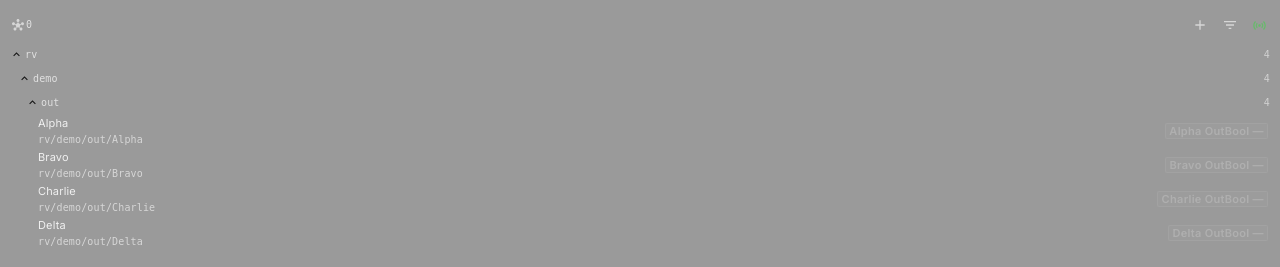
Test case: CONNECT signal list — multi-selection wiring › reduces the selection when the menu opens outside it, so the count cannot mislead
Click the element showing "Alpha rv/demo/out/Alpha Alpha OutBool —" at (53, 123), box [8,114,1272,148]
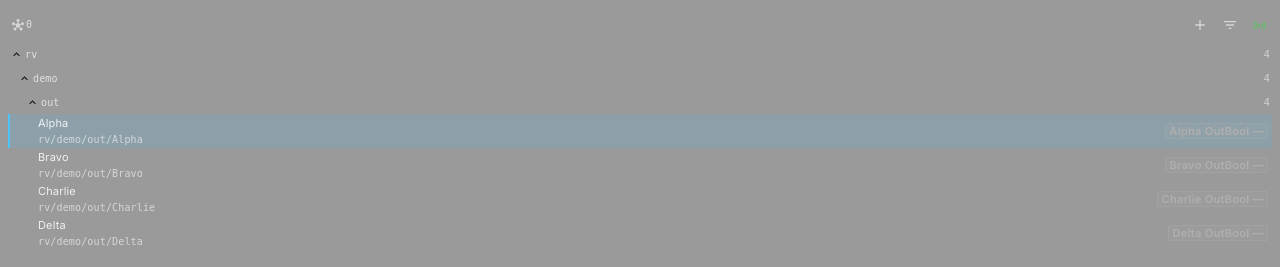
Right-click the element showing "Delta rv/demo/out/Delta Delta OutBool —" at (90, 241), box [8,216,1272,250]
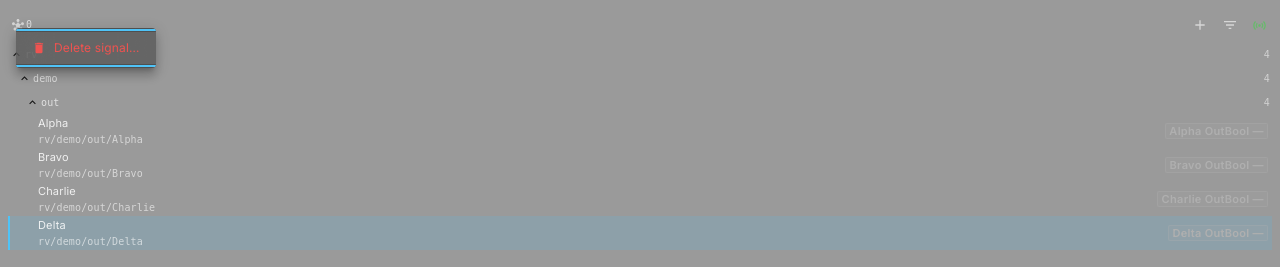
expect the menu item "Delete signal…" is shown: met, box [16,32,156,64]
